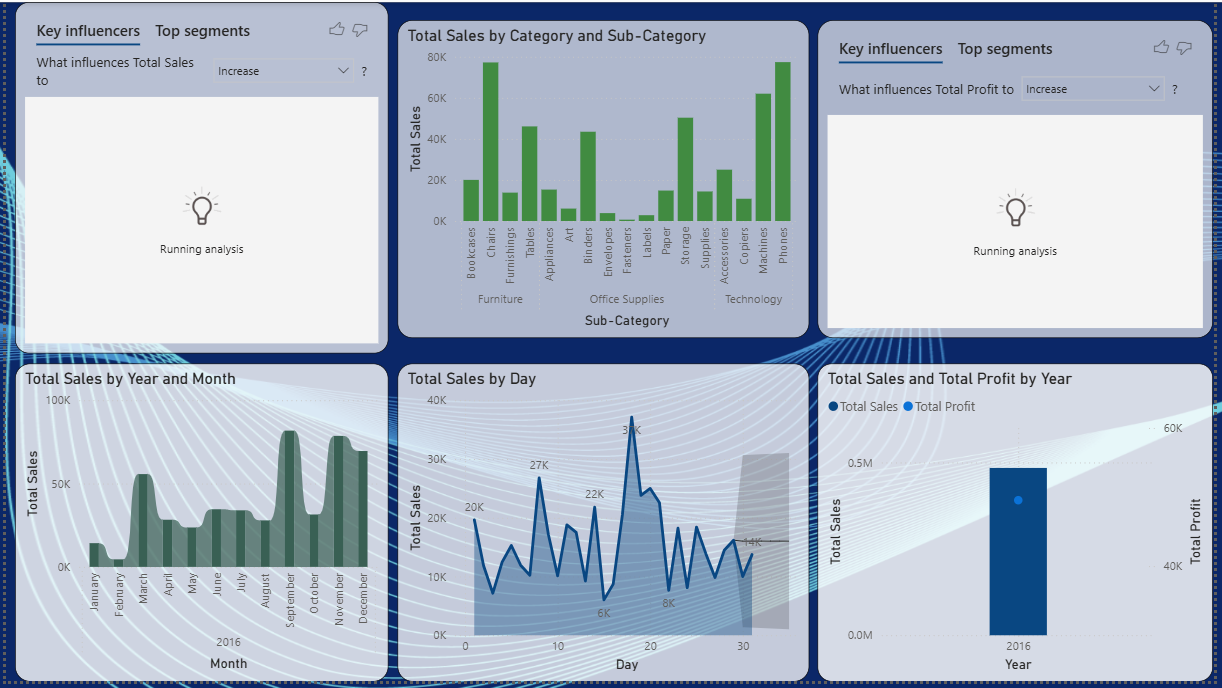

The page's visual inventory and layout, read from the dashboard file:
{"tool":"powerbi","page":{"name":"Predictive Insights1","canvas":[1280,720],"ordinal":2},"visuals":[{"type":"keyDriversVisual","fields":{"Target":["Sales.Total Sales"],"ExplainBy":["Sales.Category","Sales.Ship Mode","Sales.Region","Sum(Sales.Quantity)","Sum(Sales.Discount)"]},"box":[9.8,0,396.2,373],"z":0},{"type":"clusteredColumnChart","fields":{"Category":["Sales.Category","Sales.Sub-Category"],"Y":["Sales.Total Sales"]},"box":[414.5,18.3,436.6,337.5],"z":1000},{"type":"ribbonChart","fields":{"Category":["Date Table.Date.Variation.Date Hierarchy.Year","Date Table.Date.Variation.Date Hierarchy.Month"],"Y":["Sales.Total Sales"]},"box":[10,383,396,337],"z":2000},{"type":"keyDriversVisual","fields":{"ExplainBy":["Sum(Sales.Quantity)","Sales.Region","Sales.Segment","Sales.Ship Mode","Sales.State","Sales.Sub-Category","Sales.Category"],"Target":["Sales.Total Profit"]},"box":[860.9,18.3,419.4,337.5],"z":3000},{"type":"lineChart","fields":{"Category":["Date Table.Date.Variation.Date Hierarchy.Day"],"Y":["Sales.Total Sales"]},"box":[414.5,382.7,436.6,337.5],"z":4000},{"type":"lineClusteredColumnComboChart","fields":{"Category":["Date Table.Date.Variation.Date Hierarchy.Year","Date Table.Date.Variation.Date Hierarchy.Quarter","Date Table.Date.Variation.Date Hierarchy.Month","Date Table.Date.Variation.Date Hierarchy.Day"],"Y":["Sales.Total Sales"],"Y2":["Sales.Total Profit"]},"box":[860.9,382.7,419.4,337.5],"z":5000}]}

Visuals, with their boxes in screenshot pixels (x1, y1, x2, y2), scaled from the page's 1280x720 canvas onto the 1222x688 screenshot:
keyDriversVisual - Sales.Total Sales x Sales.Category: (x1=9, y1=0, x2=388, y2=356)
clusteredColumnChart - Sales.Category x Sales.Sub-Category: (x1=396, y1=17, x2=813, y2=340)
ribbonChart - Date Table.Date.Variation.Date Hierarchy.Year x Date Table.Date.Variation.Date Hierarchy.Month: (x1=10, y1=366, x2=388, y2=687)
keyDriversVisual - Sum(Sales.Quantity) x Sales.Region: (x1=822, y1=17, x2=1221, y2=340)
lineChart - Date Table.Date.Variation.Date Hierarchy.Day x Sales.Total Sales: (x1=396, y1=366, x2=813, y2=687)
lineClusteredColumnComboChart - Date Table.Date.Variation.Date Hierarchy.Year x Date Table.Date.Variation.Date Hierarchy.Quarter: (x1=822, y1=366, x2=1221, y2=687)
